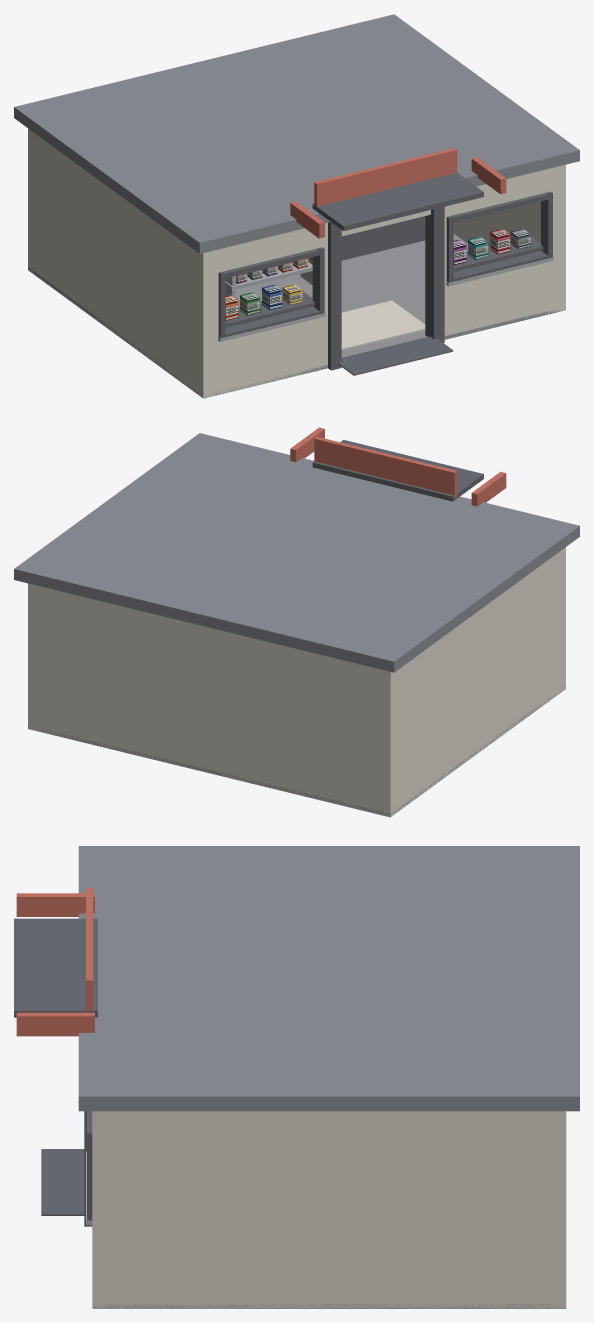
File: rv_store.gltf
3 views of the same model, one above another, from view 1: azimuth 30°, elevation 25°; view 2: azimuth 150°, elevation 25°; view 3: azimuth 270°, elevation 25° (orthographic). The views are drawn at different scales.
Parts seen in each view (by area): view 1: RV_Store; view 2: RV_Store; view 3: RV_Store.
Part boxes in pixels (x1=…): RV_Store: x1=14, y1=14, x2=579, y2=398; RV_Store: x1=14, y1=427, x2=579, y2=817; RV_Store: x1=14, y1=846, x2=579, y2=1308.
Bounding box in the file's own units: 6.5 × 3.7 × 6.21.
Materials: 15 (1 with a texture image).
